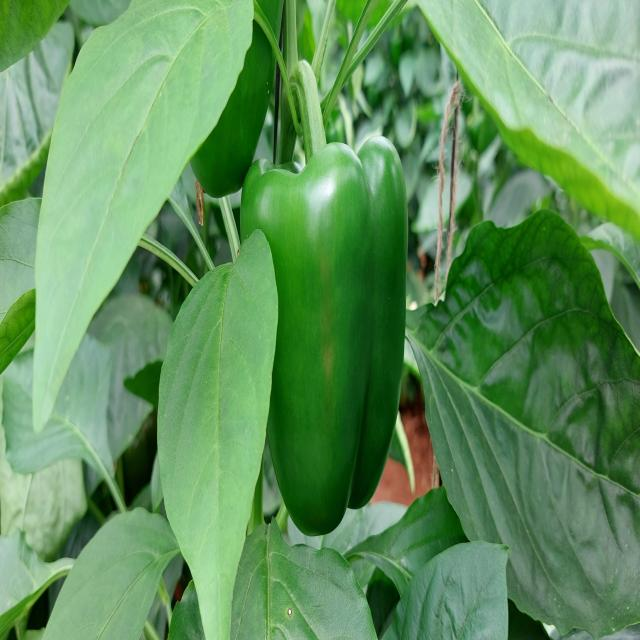Green--Not-ready-to-harvest: (239, 134, 408, 544), (177, 8, 284, 198)
